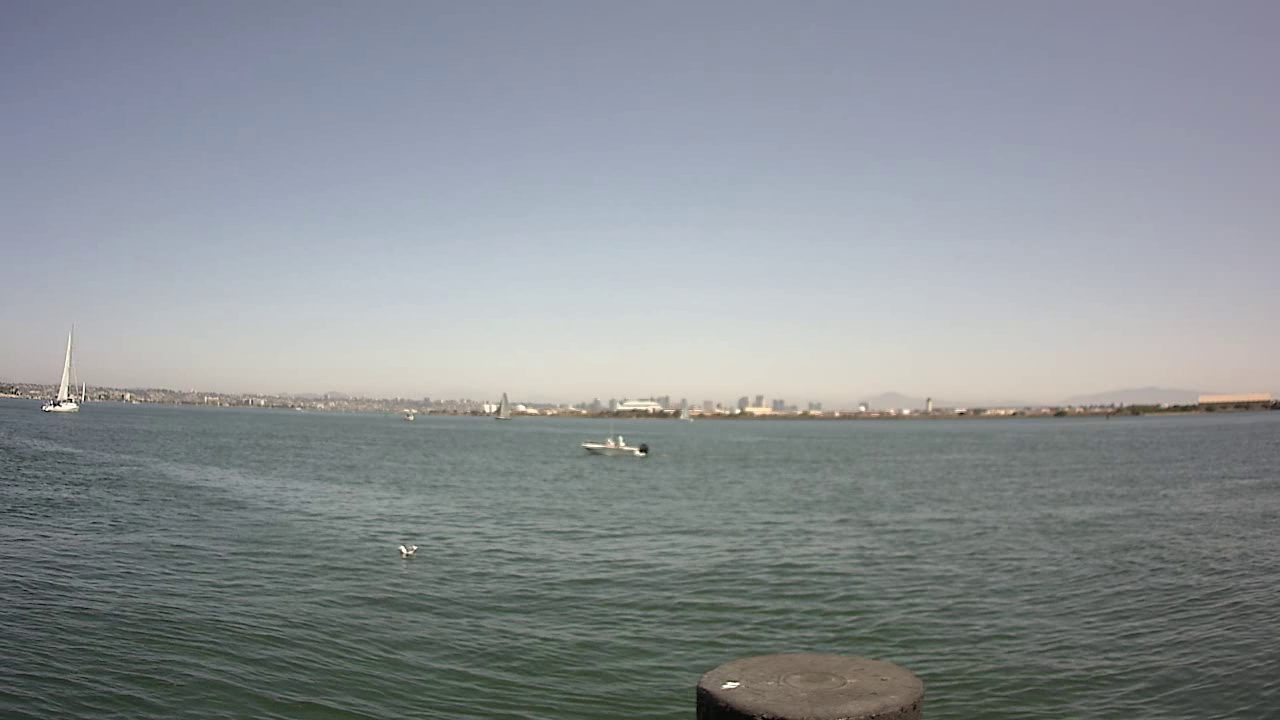target: (575, 422, 659, 468)
